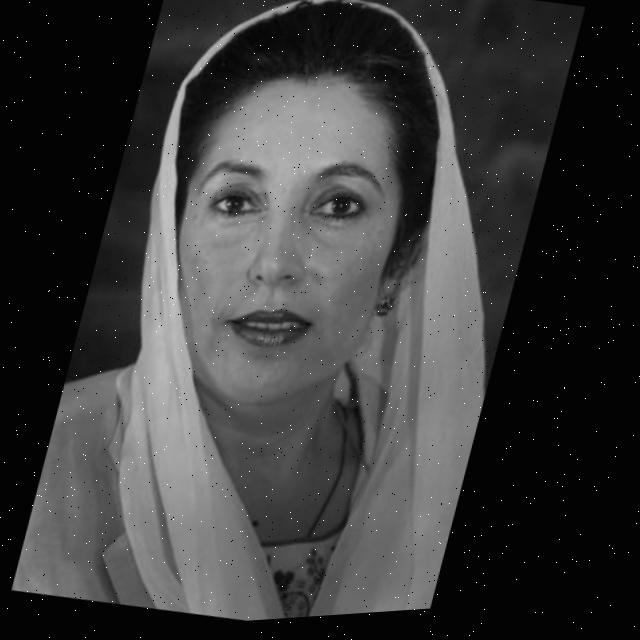face: (103, 46, 465, 430)
